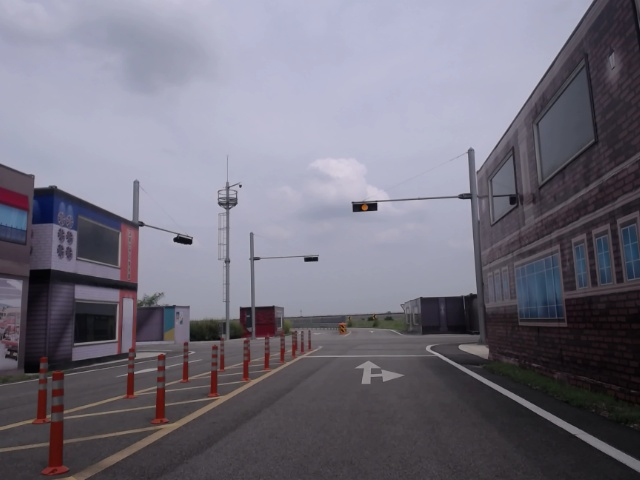orange_3: (353, 203, 377, 211)
